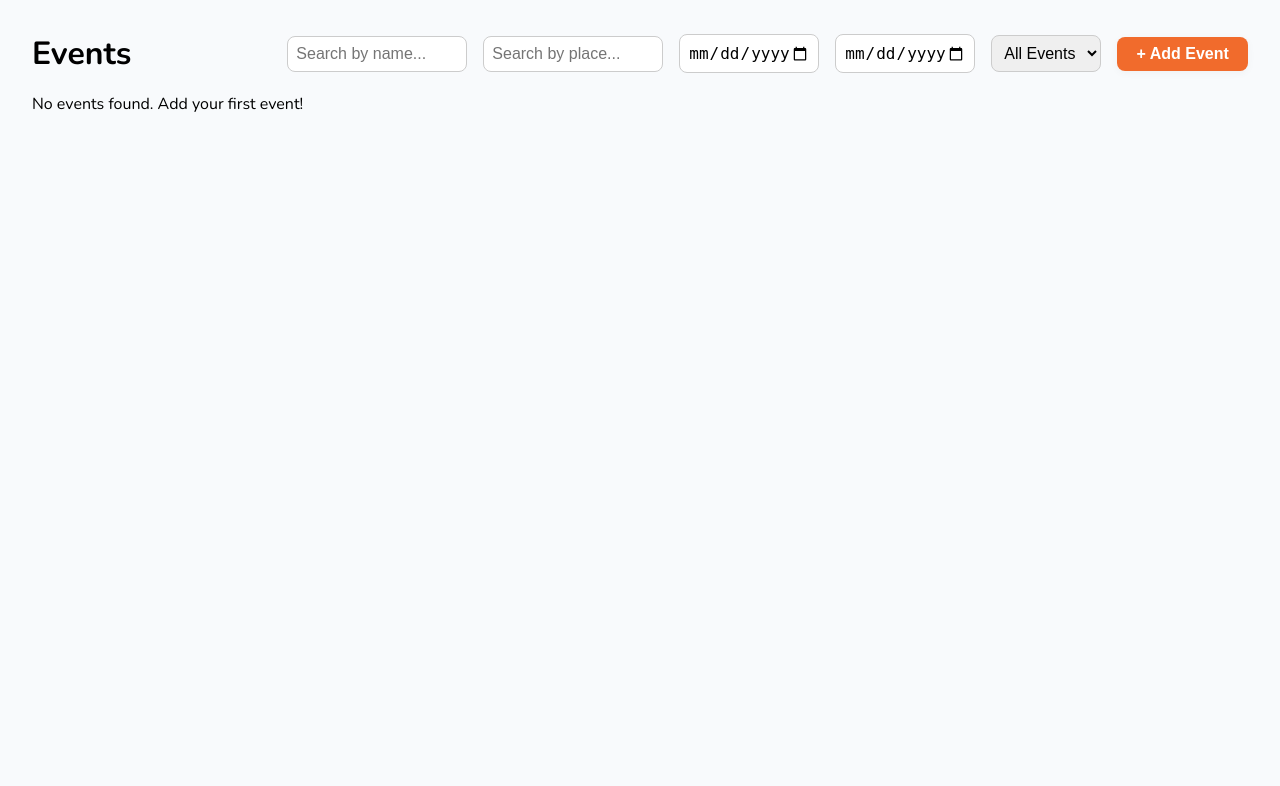
Test: EventsHome Component - Unit Tests › Add Event Modal › should open modal when Add Event button is clicked
Click the button "+ Add Event": (1183, 54) [1117,36,1248,70]
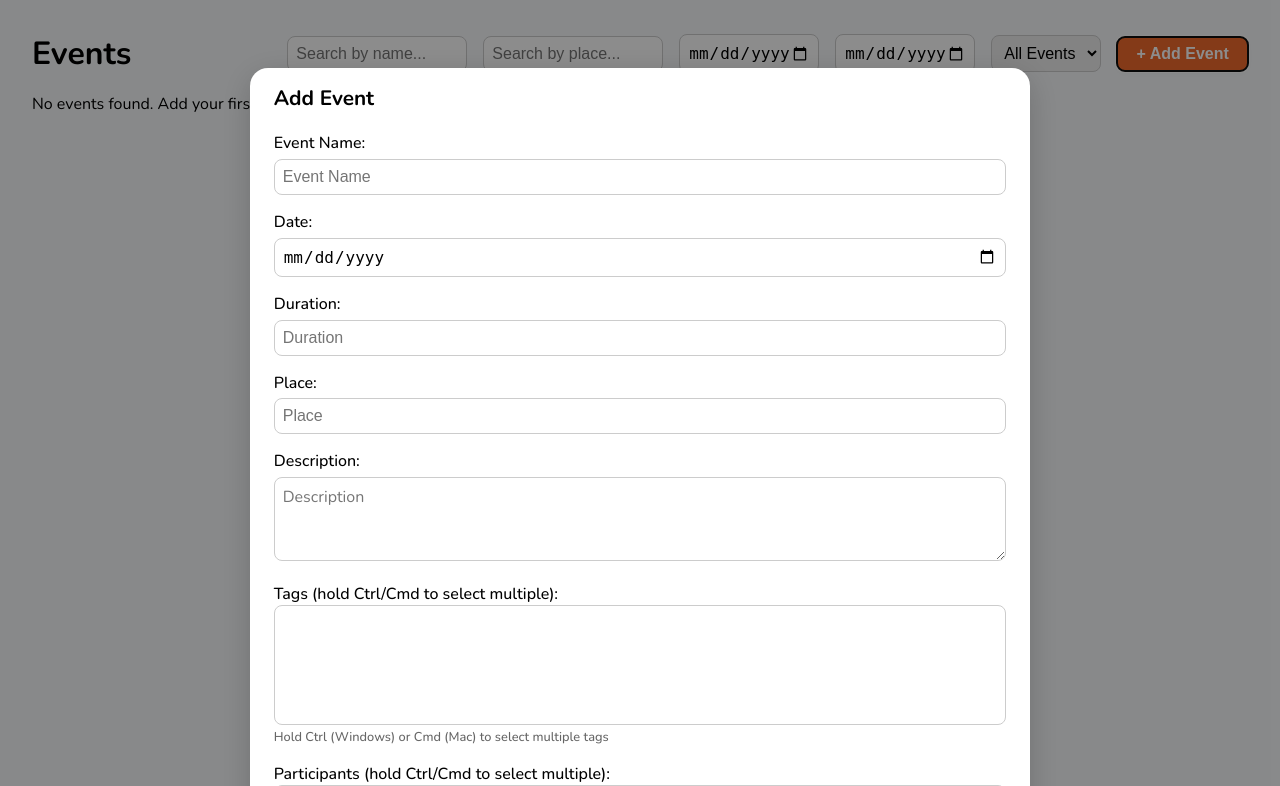
Expected: the heading "Add Event" is shown, [274,84,374,112]
Expected: the field labelled "Event Name:" is shown, [274,159,1006,195]
Expected: the date field labelled "Date:" is shown, [274,238,1006,277]
